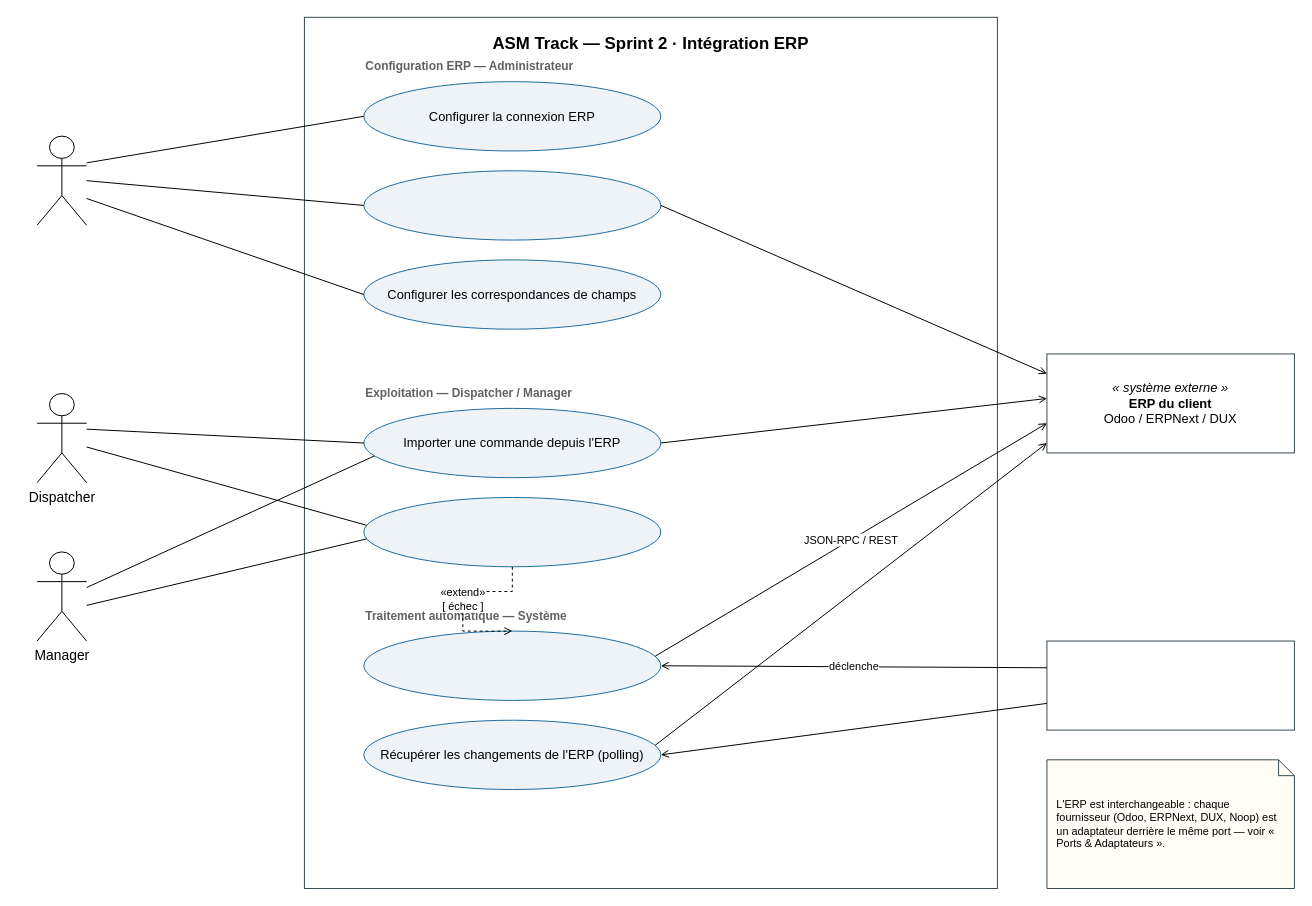
The diagram is 1312 pixels wide and 906 high, and some of its shapes have lost their labels. Each missing label, with the centre of its shape:
Administrateur: the point at 61,180
Certifier la connexion (test de conformité): the point at 512,205
Rejouer une synchronisation en échec: the point at 512,531
Synchroniser une livraison vers l'ERP: the point at 512,665
« système » Système: the point at 1170,685
